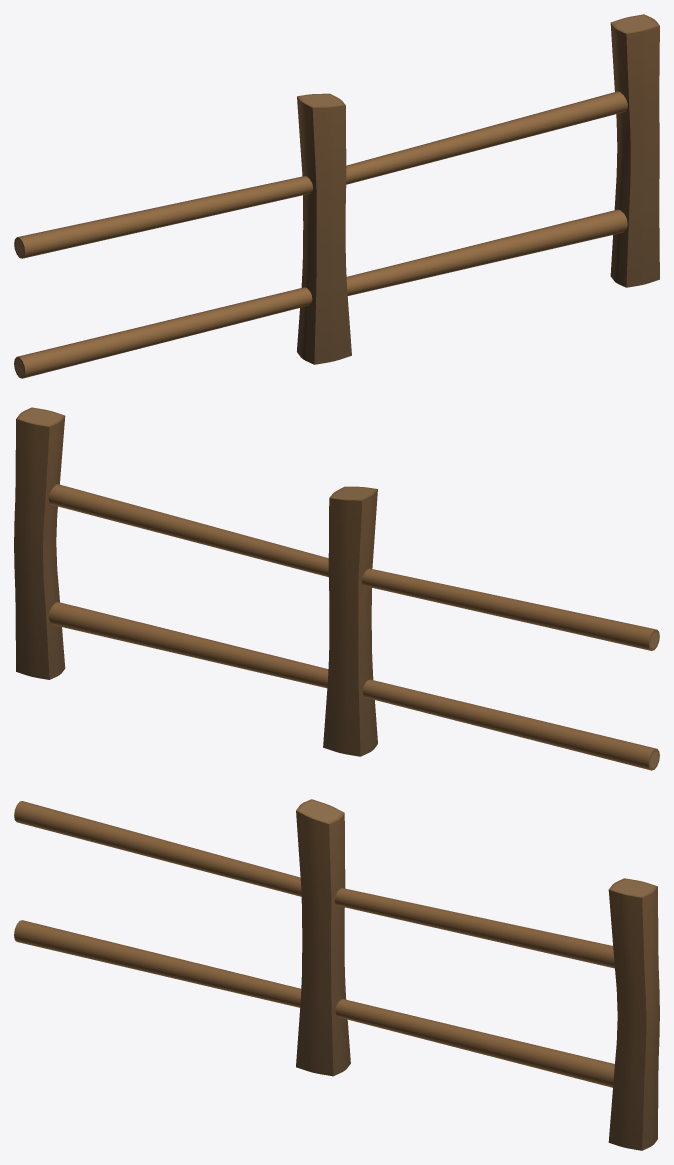
File: Fence_02.fbx
3 views of the same model, one above another, from view 1: azimuth 30°, elevation 25°; view 2: azimuth 150°, elevation 25°; view 3: azimuth 330°, elevation 25° (orthographic).
Visible parts, largest first — view 1: Fence_02_LOD0; view 2: Fence_02_LOD0; view 3: Fence_02_LOD0.
Boxes of the visible parts, bbox=[...] form: Fence_02_LOD0: bbox=[14, 14, 659, 378]; Fence_02_LOD0: bbox=[14, 407, 659, 770]; Fence_02_LOD0: bbox=[14, 799, 659, 1150].
Size of what is drawn, in the model's own units: 2.41 by 0.9296 by 0.1326.
